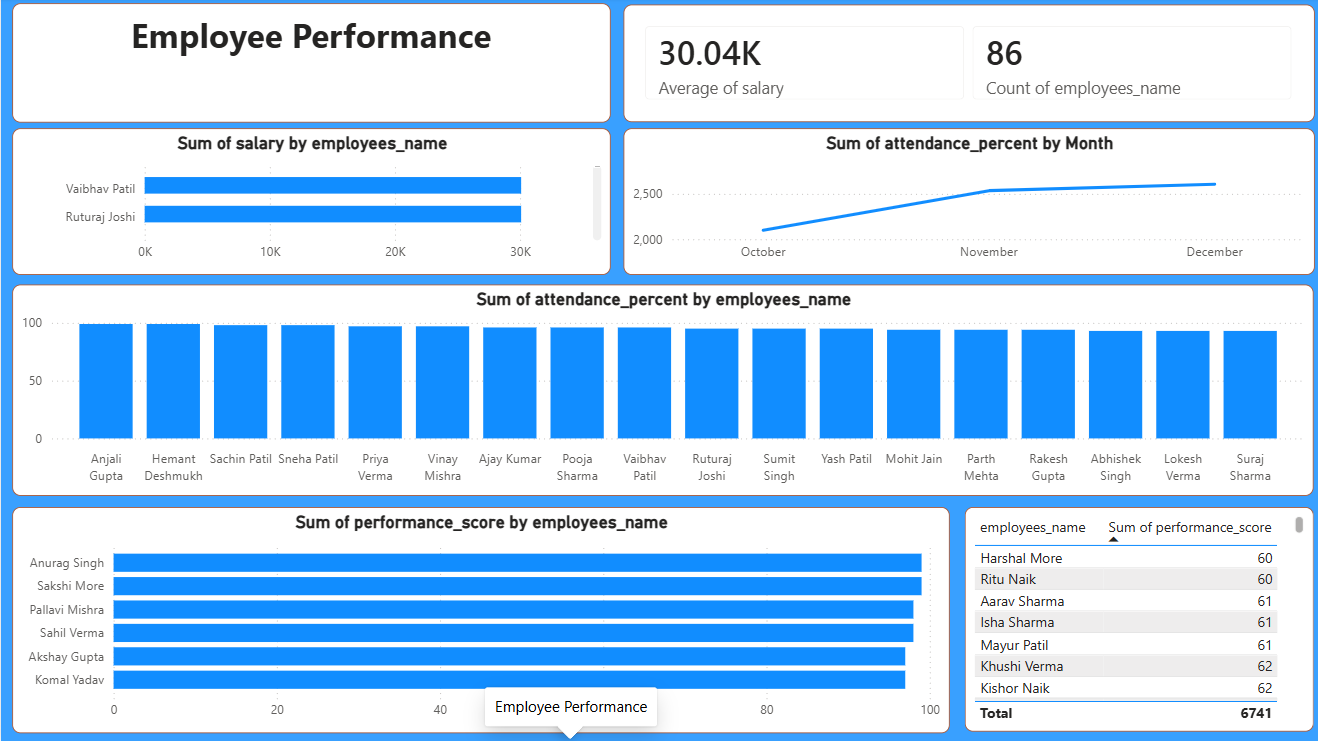

What the dashboard file says about the page in this screenshot:
{"tool":"powerbi","page":{"name":"EMPLOYEES Table Visuals","canvas":[1280,720],"ordinal":2},"visuals":[{"type":"clusteredBarChart","fields":{"Category":["employees.emp_name"],"Y":["Sum(employees.salary)"]},"box":[11,126.2,577.7,141.3],"z":0},{"type":"clusteredColumnChart","fields":{"Category":["employees.emp_name"],"Y":["Sum(employees.attendance_percent)"]},"box":[11.2,277.5,1256.2,203.8],"z":1000},{"type":"clusteredBarChart","fields":{"Category":["employees.emp_name"],"Y":["Sum(employees.performance_score)"]},"box":[11.2,492.5,962.5,218.8],"z":2000},{"type":"lineChart","fields":{"Category":["employees.joining_date.Variation.Date Hierarchy.Year","employees.joining_date.Variation.Date Hierarchy.Quarter","employees.joining_date.Variation.Date Hierarchy.Month","employees.joining_date.Variation.Date Hierarchy.Day"],"Y":["CountNonNull(employees.emp_id)"]},"box":[601,126.2,666.9,141.3],"z":3000},{"type":"tableEx","fields":{"Values":["employees.emp_name","Sum(employees.performance_score)"]},"box":[989.4,492.6,278.6,216.8],"z":4000},{"type":"cardVisual","fields":{"Data":["Avg(employees.salary)","CountNonNull(employees.emp_id)"]},"box":[601,6.9,666.9,113.9],"z":5000},{"type":"shape","box":[11.2,13.8,361.2,100],"z":6000},{"type":"textbox","box":[11.2,6.2,577.5,115],"z":7000}]}

Visuals, with their boxes in screenshot pixels (x1, y1, x2, y2), scaled from the page's 1280x720 canvas onto the 1318x741 screenshot:
clusteredBarChart - employees.emp_name x Sum(employees.salary): [x1=11, y1=130, x2=606, y2=275]
clusteredColumnChart - employees.emp_name x Sum(employees.attendance_percent): [x1=12, y1=286, x2=1305, y2=495]
clusteredBarChart - employees.emp_name x Sum(employees.performance_score): [x1=12, y1=507, x2=1003, y2=732]
lineChart - employees.joining_date.Variation.Date Hierarchy.Year x employees.joining_date.Variation.Date Hierarchy.Quarter: [x1=619, y1=130, x2=1306, y2=275]
tableEx - employees.emp_name x Sum(employees.performance_score): [x1=1019, y1=507, x2=1306, y2=730]
cardVisual - Avg(employees.salary) x CountNonNull(employees.emp_id): [x1=619, y1=7, x2=1306, y2=124]
shape: [x1=12, y1=14, x2=383, y2=117]
textbox: [x1=12, y1=6, x2=606, y2=125]
